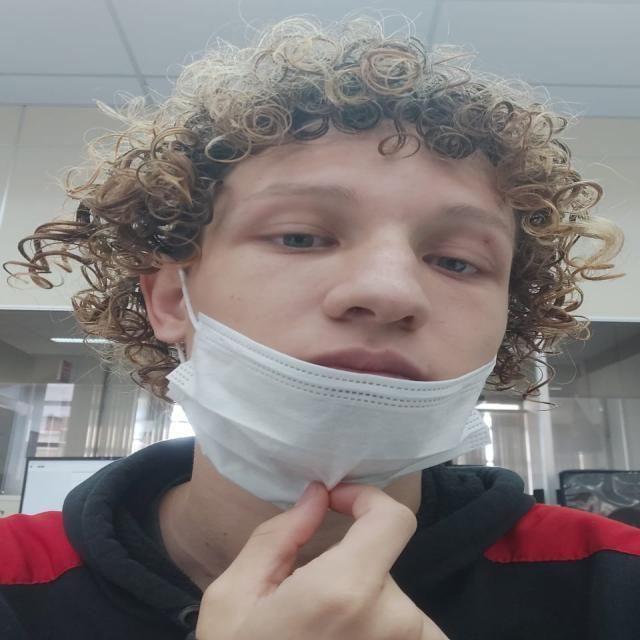hairnet: (194, 145, 526, 482)
